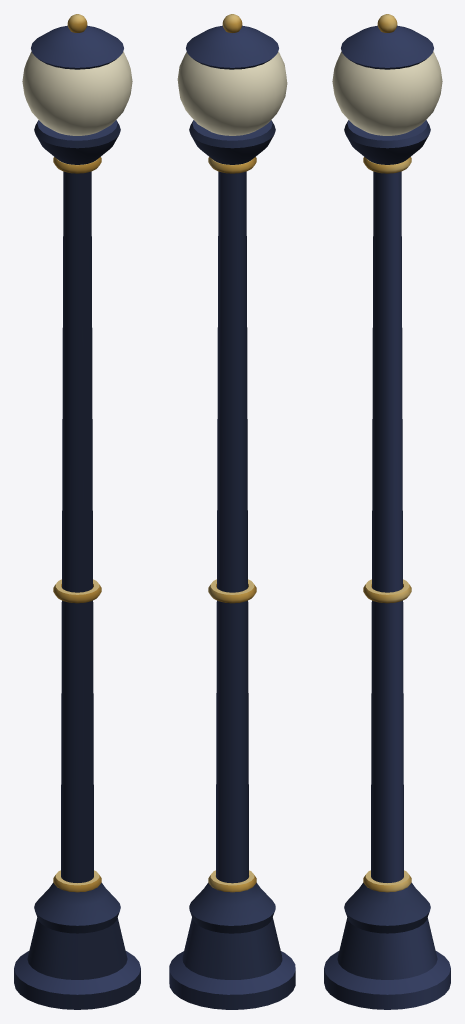
The model's file is street_lamp.glb.
The picture shows the model from 3 angles, left to right: view 1: azimuth 90°, elevation 25°; view 2: azimuth 150°, elevation 25°; view 3: azimuth 270°, elevation 25°; orthographic projection.
Visible parts, largest first — view 1: StreetLamp; view 2: StreetLamp; view 3: StreetLamp.
Boxes of the visible parts, x1=… form: StreetLamp: x1=14, y1=14, x2=140, y2=1009; StreetLamp: x1=169, y1=14, x2=295, y2=1009; StreetLamp: x1=324, y1=14, x2=450, y2=1009.
Size of the model in its own units: 0.38 by 3.2 by 0.38.
